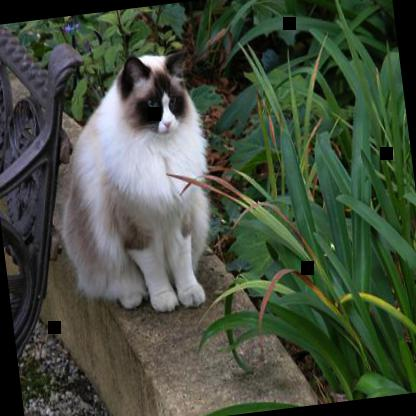cat: (42, 48, 226, 324)
